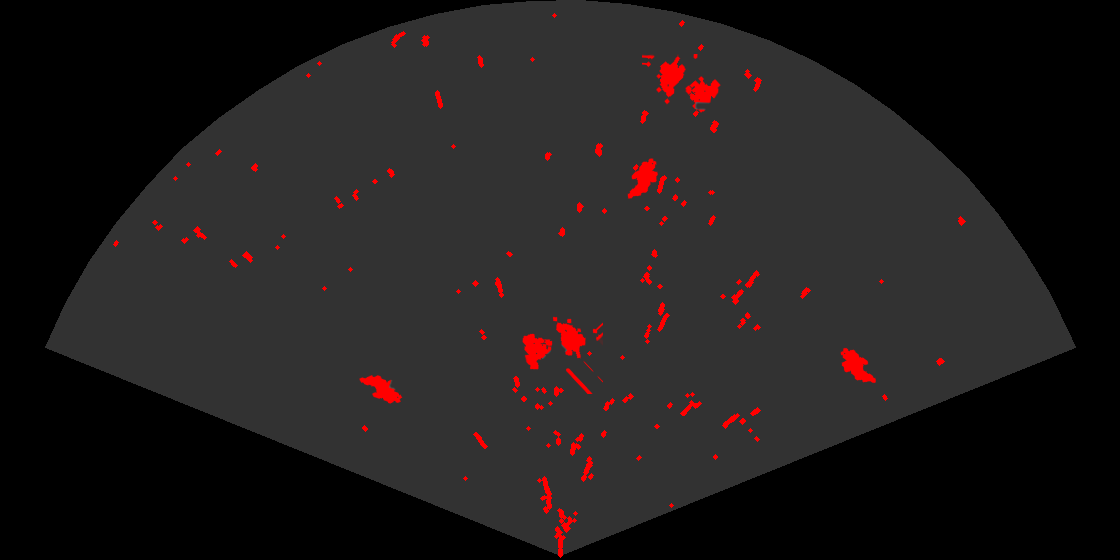AUV: (839, 346, 878, 385), (626, 157, 660, 200), (358, 374, 404, 405)
cage: (521, 315, 603, 394), (642, 54, 722, 114)
